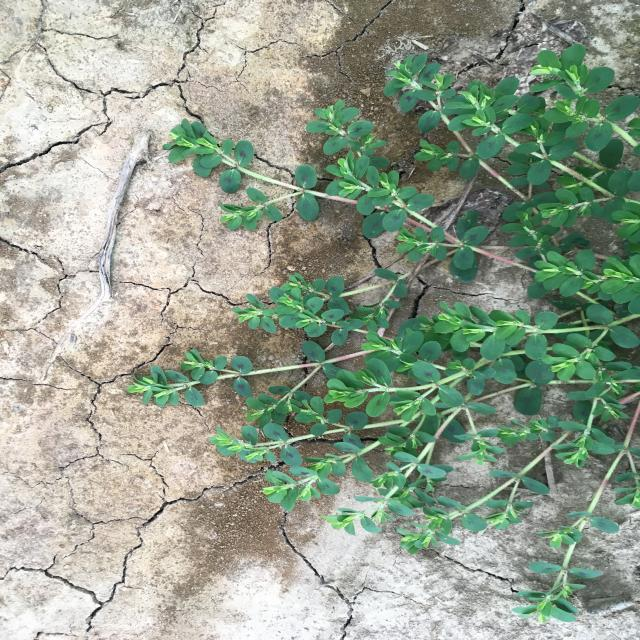SpottedSpurge: (126, 44, 640, 624)
